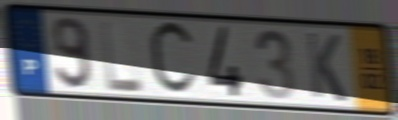3: (253, 27, 295, 101)
4: (207, 25, 245, 99)
9: (49, 15, 92, 92)
C: (147, 17, 200, 101)
K: (303, 29, 349, 105)
L: (98, 17, 147, 94)
